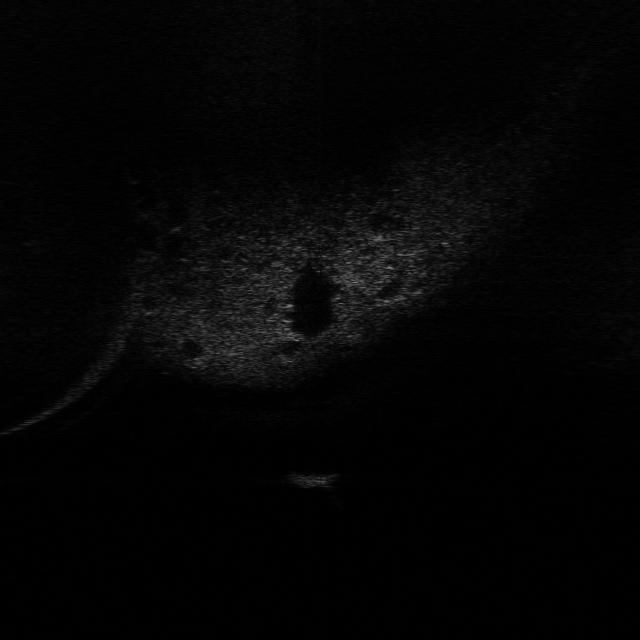cube: (276, 465, 344, 490)
